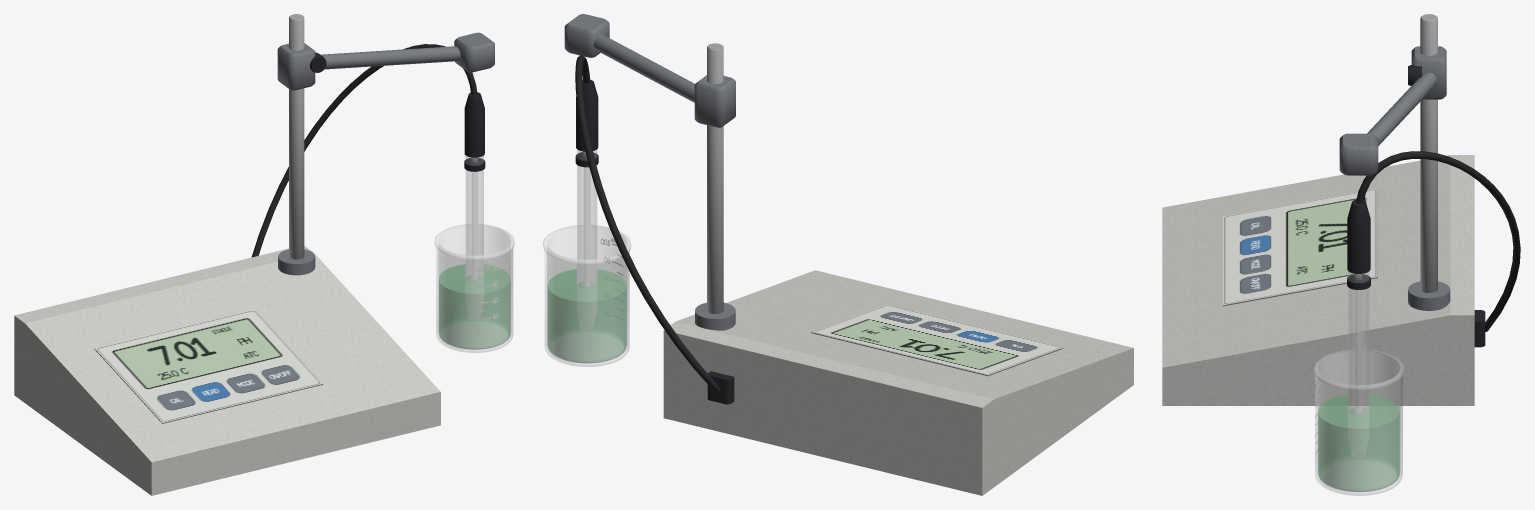
Rendered from innerscene_ph_meter.glb.
3 renders of one model, left to right at view 1: azimuth 30°, elevation 25°; view 2: azimuth 150°, elevation 25°; view 3: azimuth 270°, elevation 25°, orthographic. The views are drawn at different scales.
Parts seen in each view (by area): view 1: Meter housing, Display and keypad, Electrode holder, Beaker 100 ml, Buffer solution, Electrode cap and cable, pH electrode; view 2: Meter housing, Beaker 100 ml, Electrode holder, Display and keypad, Buffer solution, Electrode cap and cable, pH electrode; view 3: Meter housing, Display and keypad, Beaker 100 ml, Electrode holder, Buffer solution, Electrode cap and cable, pH electrode.
Part boxes in pixels (x1,y1,x2,y2): Meter housing: (14,246,440,495); Display and keypad: (94,309,322,423); Electrode holder: (277,14,494,275); Beaker 100 ml: (435,224,514,352); Buffer solution: (439,264,510,349); Electrode cap and cable: (251,44,485,257); pH electrode: (466,156,483,279); Meter housing: (663,270,1133,495); Beaker 100 ml: (543,225,630,366); Electrode holder: (564,14,735,330); Display and keypad: (811,304,1063,376); Buffer solution: (547,269,626,363); Electrode cap and cable: (575,55,734,404); pH electrode: (577,149,596,286); Meter housing: (1162,155,1474,405); Display and keypad: (1223,188,1377,306); Beaker 100 ml: (1313,349,1403,495); Electrode holder: (1339,14,1450,310); Buffer solution: (1318,395,1399,491); Electrode cap and cable: (1347,151,1520,347); pH electrode: (1348,272,1368,412).
Size of the model in its own units: 0.3319 by 0.239 by 0.2041.
Materials: 10 (10 with a texture image).
